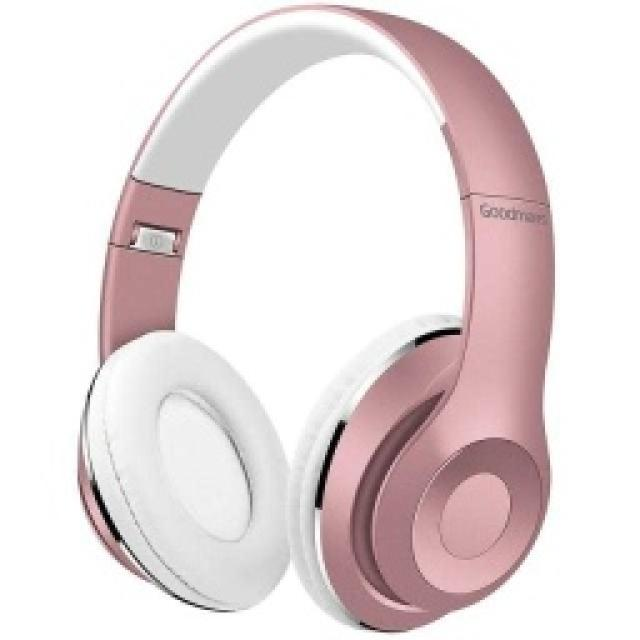headphones: (75, 0, 555, 632)
